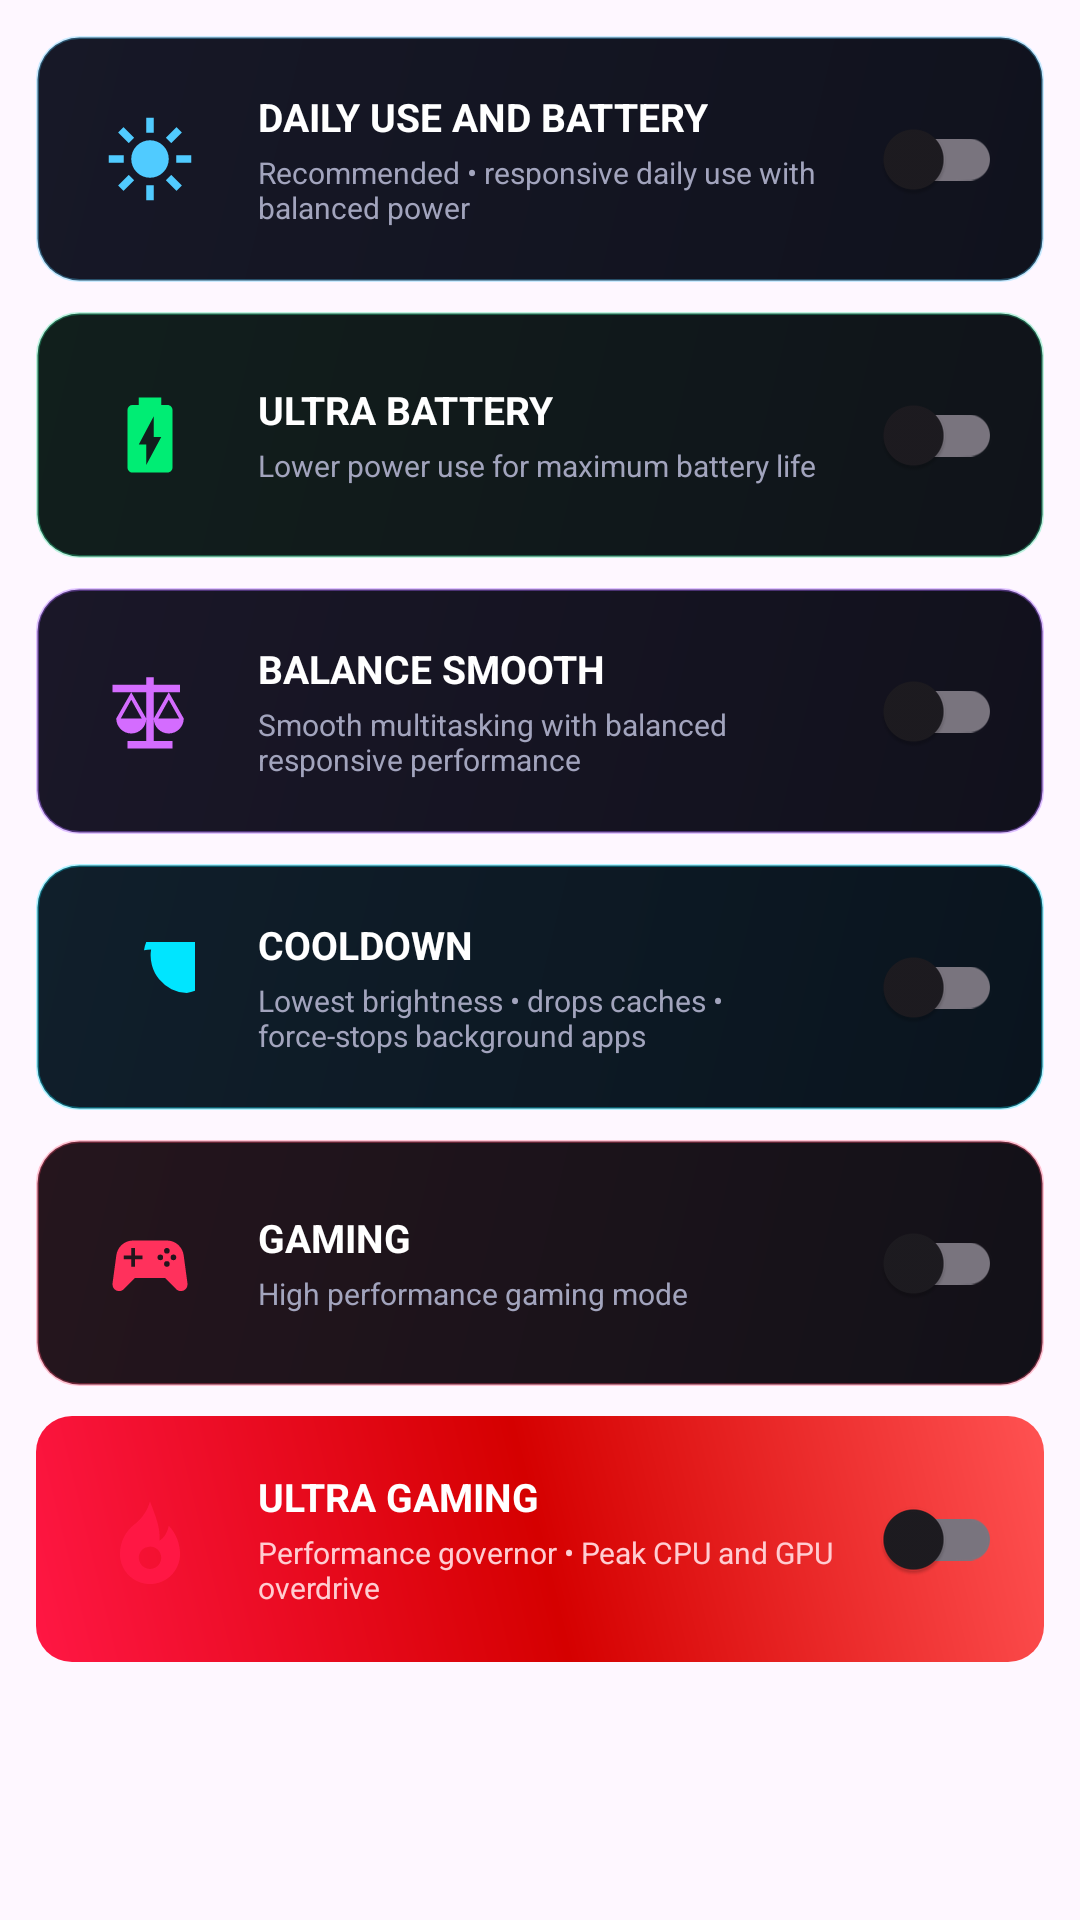

Where icons sit on this 1080×1920 app screen, as (x1, y1, x2, y2):
profile balance: (112, 677, 184, 749)
profile daily: (108, 117, 192, 201)
spectrum battery: (127, 397, 173, 473)
spectrum game: (112, 1240, 188, 1291)
